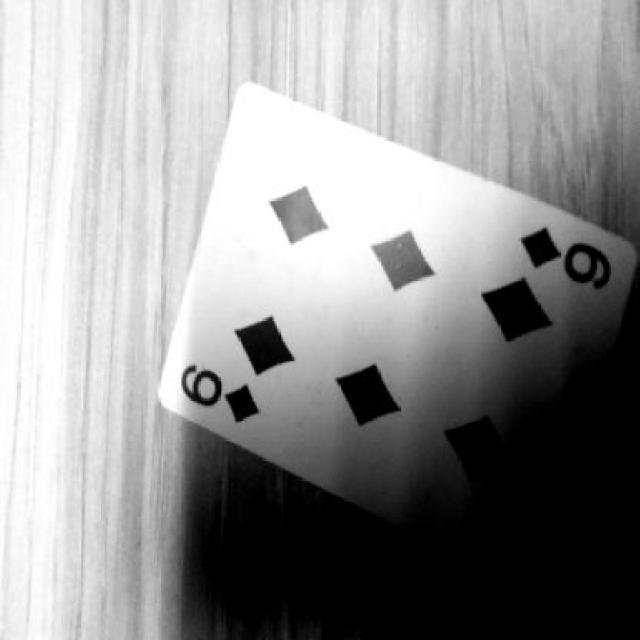6D: (493, 212, 636, 298), (167, 363, 281, 452)
